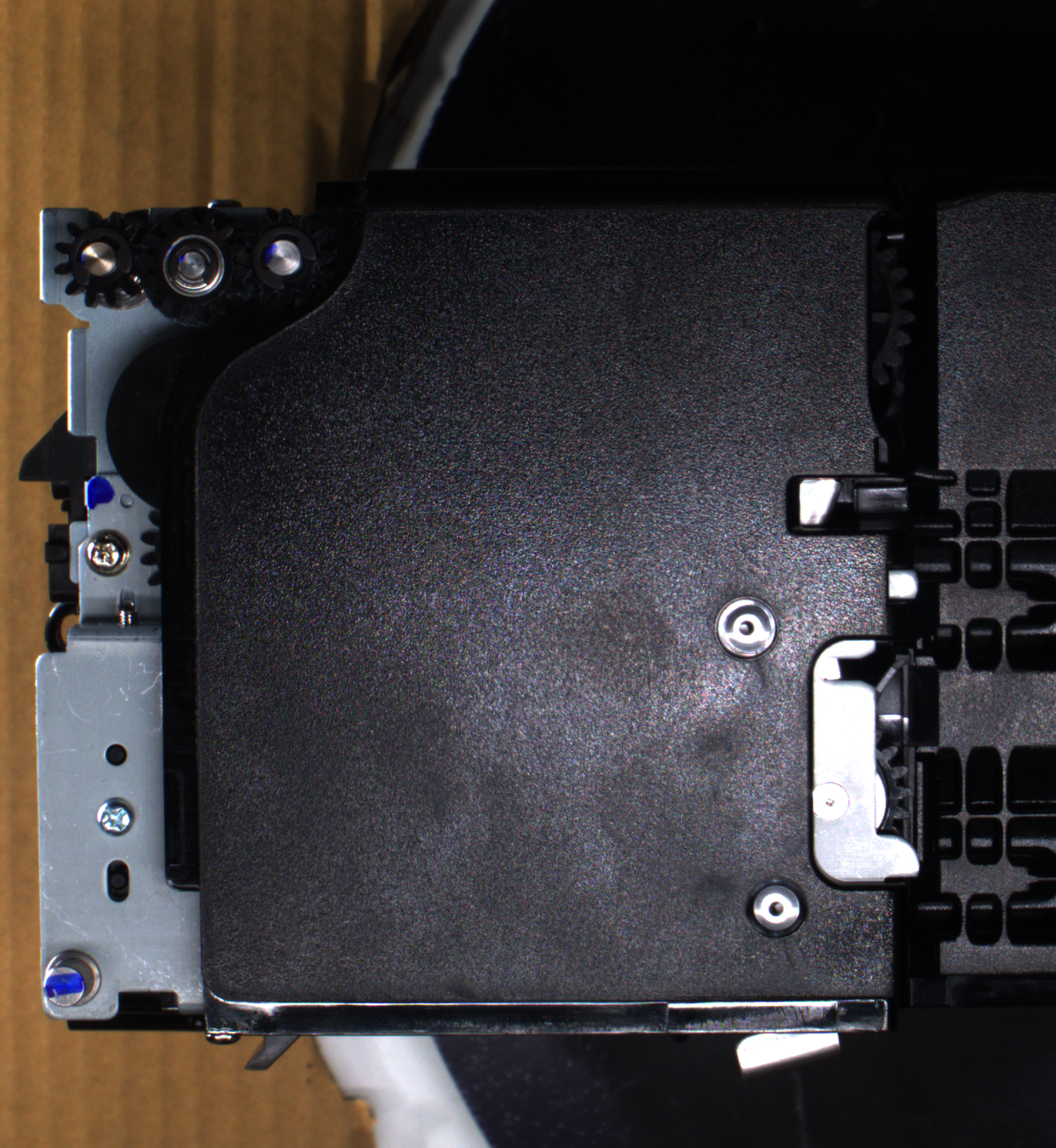centre_pin_presence: (728, 1016, 848, 1080)
centre_plate_presence: (802, 630, 931, 894)
centre_screw_presence: (710, 589, 783, 665), (740, 872, 811, 944)
gear1_presence: (51, 206, 152, 312)
gear2_presence: (137, 207, 251, 327)
gear3_presence: (233, 207, 333, 311)
side_screw_presence: (81, 527, 134, 578), (92, 793, 135, 838)
slanting_pin_presence: (37, 945, 109, 1017)
